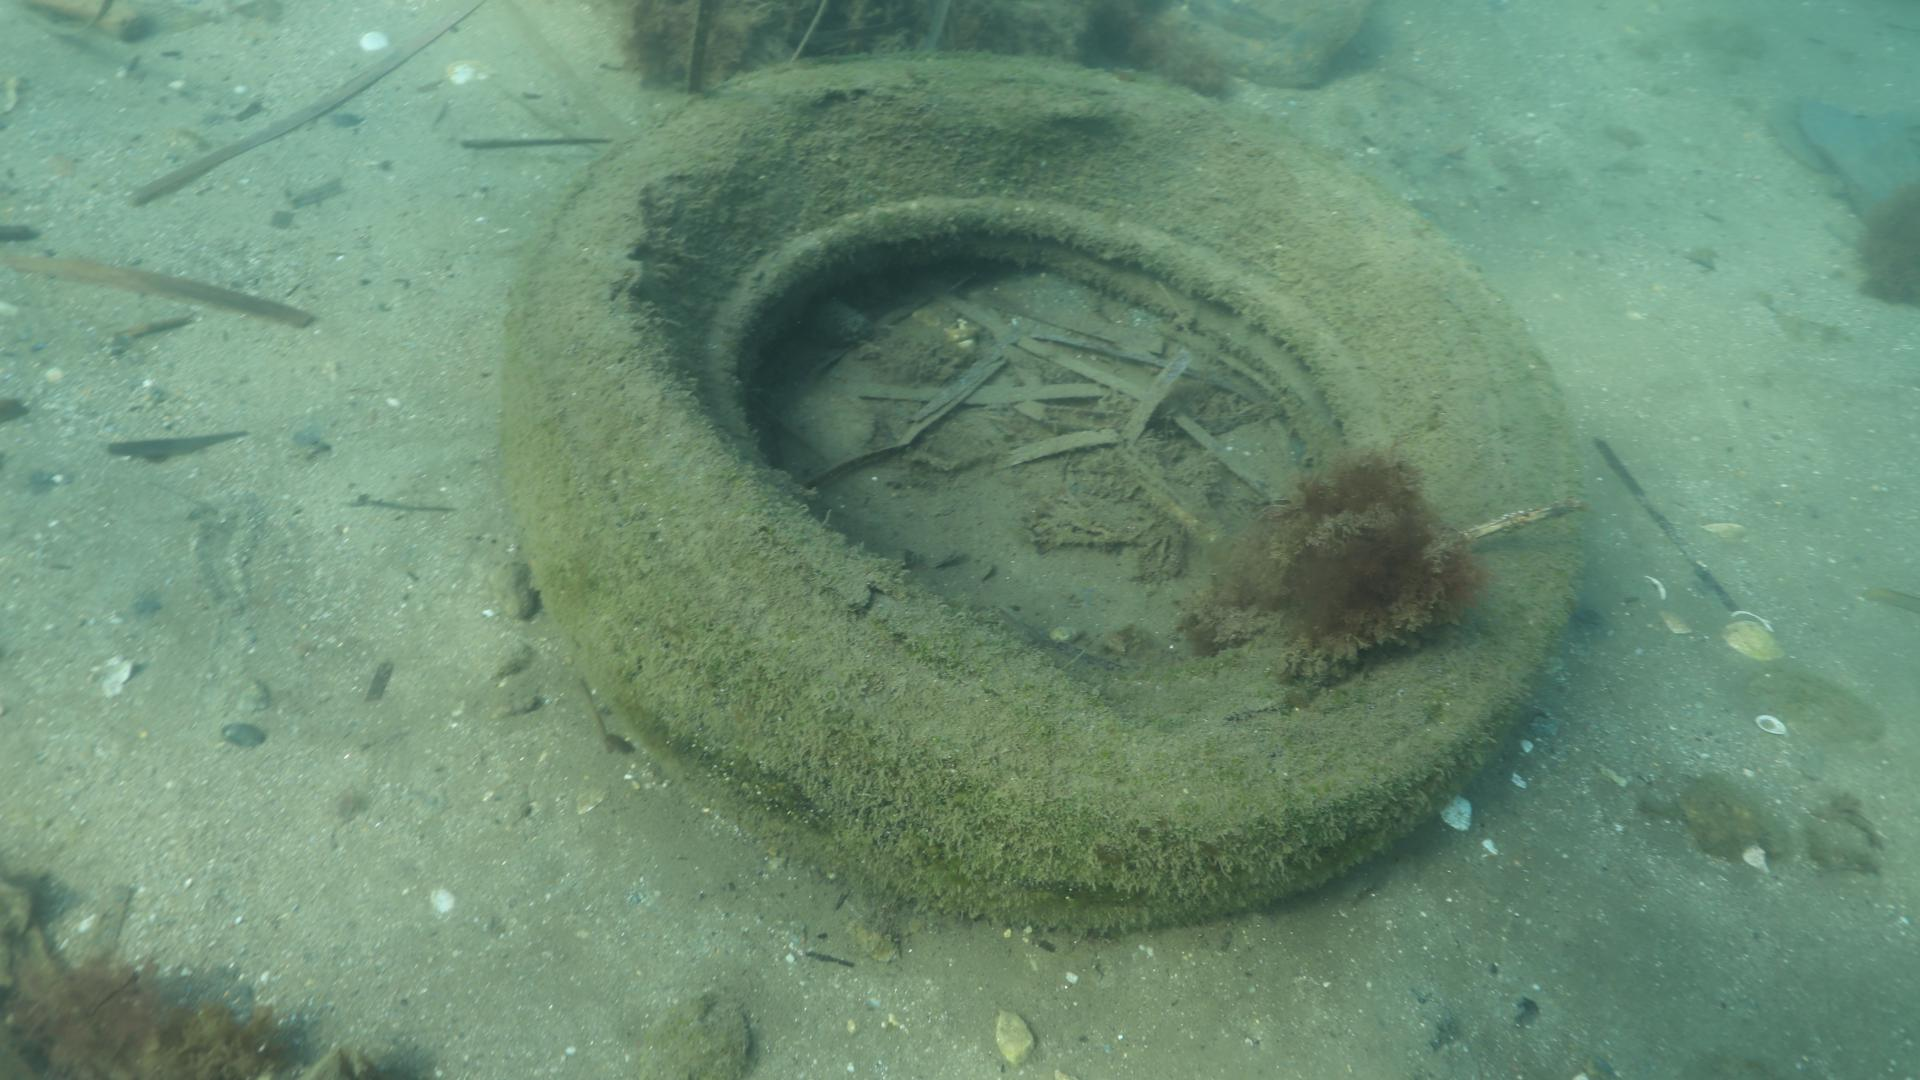tire: (489, 47, 1578, 920)
